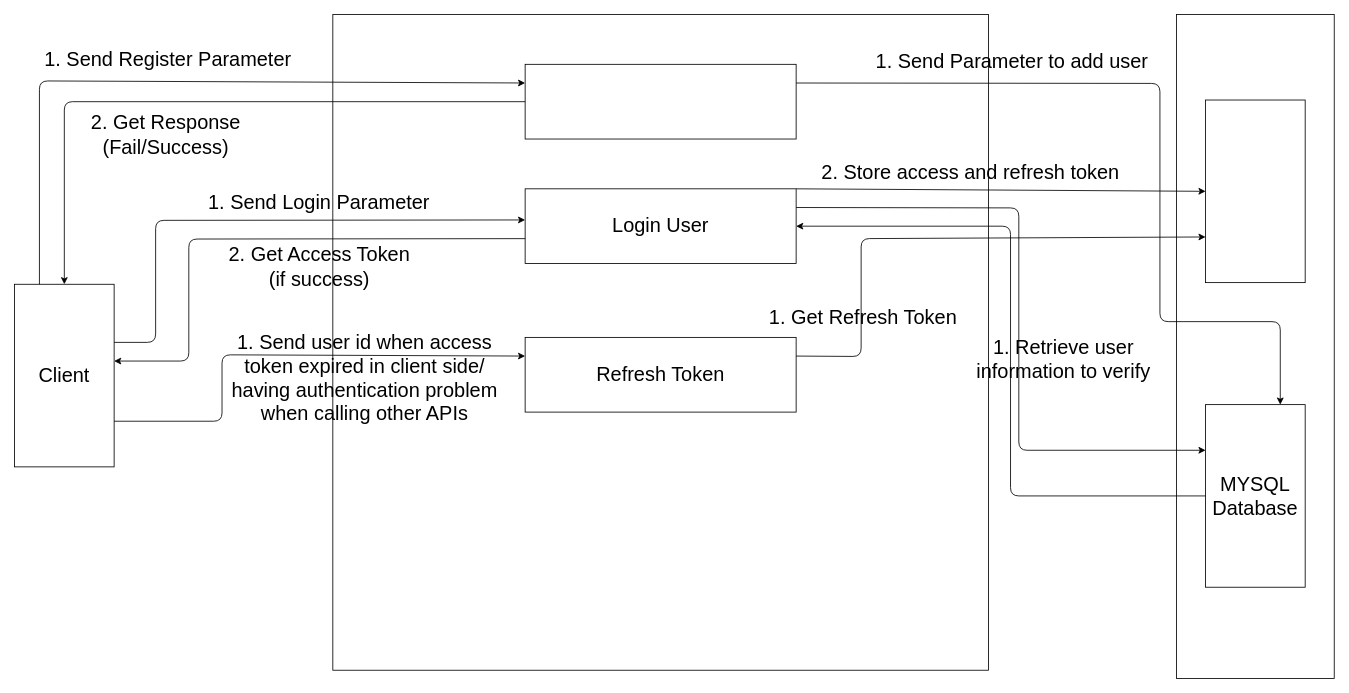
Some shapes in this 1349 by 693 pixel diagram are drawn without their labels. Each missing label, with the centre of its shape:
"Redis" goes at (x=1255, y=191).
"User Registeration" goes at (x=660, y=101).
